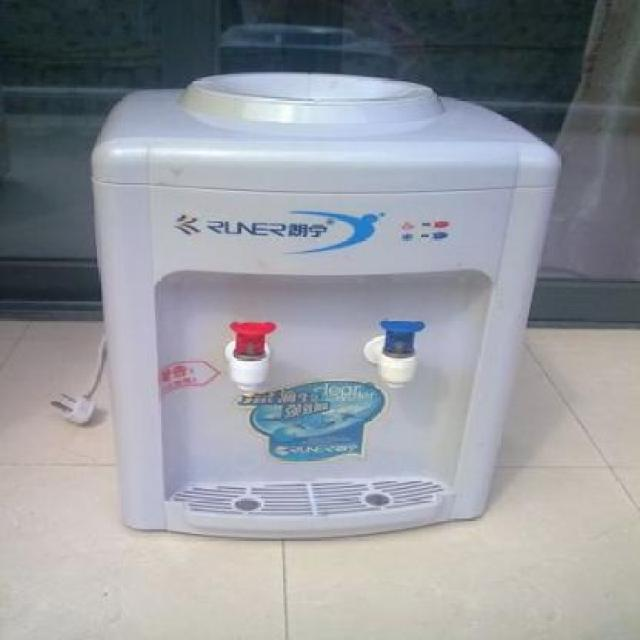cooler: (86, 66, 560, 536)
